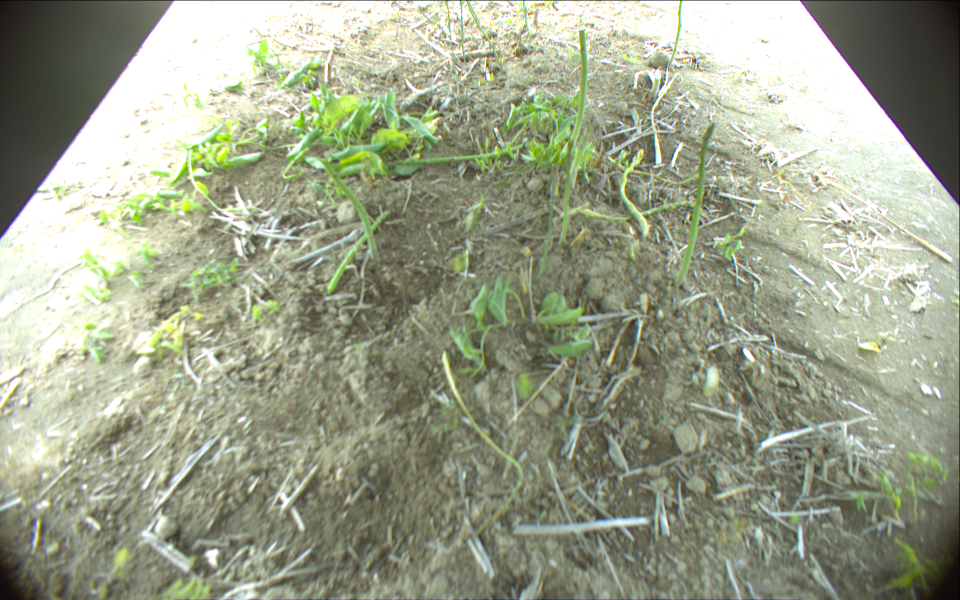aspa: (441, 352, 526, 528), (674, 123, 718, 287), (559, 28, 591, 243), (317, 156, 380, 261), (326, 209, 388, 295), (560, 193, 698, 220), (391, 137, 525, 164), (467, 1, 507, 76), (618, 150, 650, 234), (667, 1, 684, 78), (442, 1, 455, 58), (458, 1, 467, 73)
